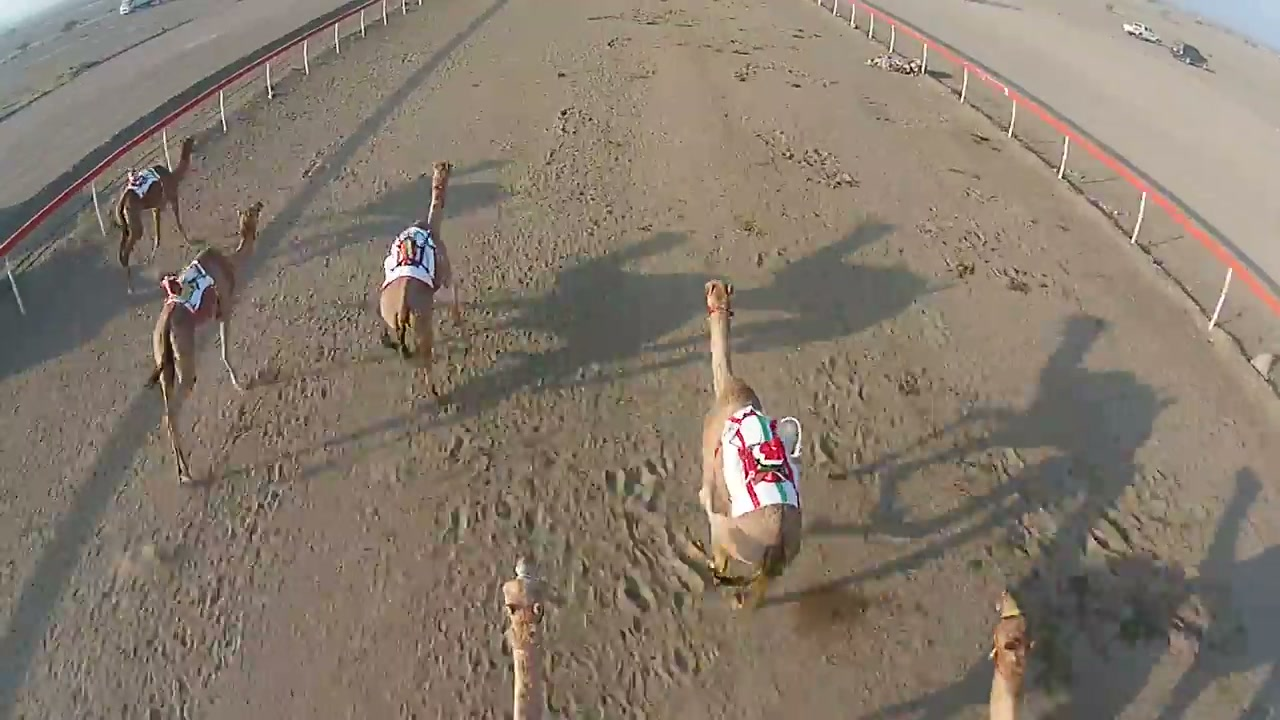animal_footprint: (111, 400, 278, 702), (589, 420, 740, 718), (416, 400, 599, 638)
